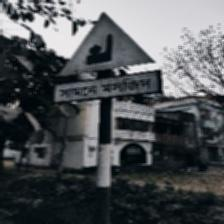Mosque in front: (54, 10, 160, 102)
